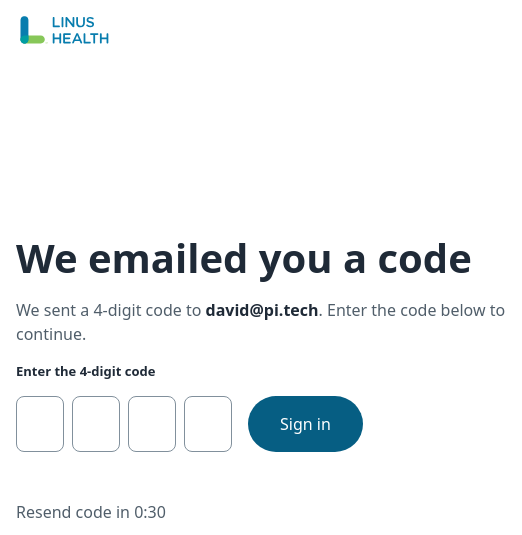
Scenario: VerifyEmailPage › auto-advances focus as each digit is typed
Click the field named "Digit 1 of 4". click: (40, 424)
box: x1=16 y1=396 x2=64 y2=452
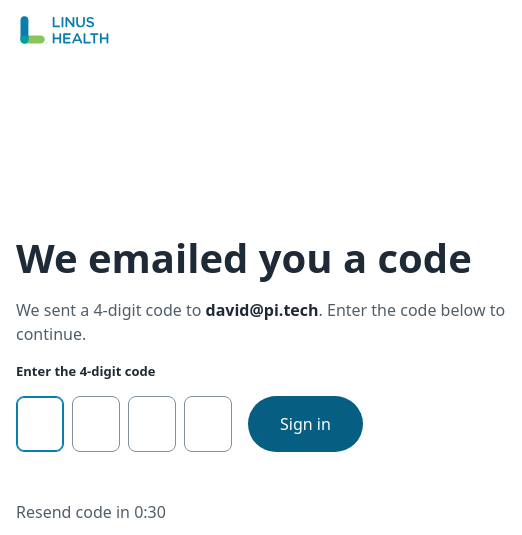
Type keys "1"
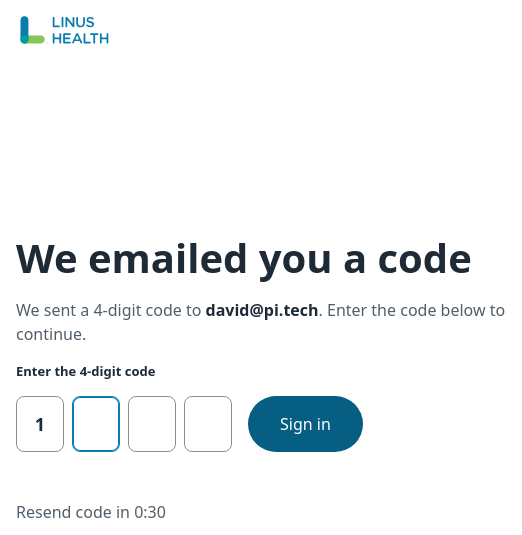
Type keys "2"
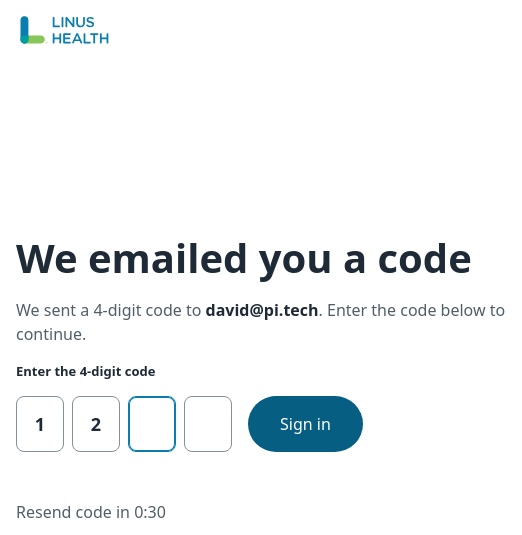
Type keys "3"
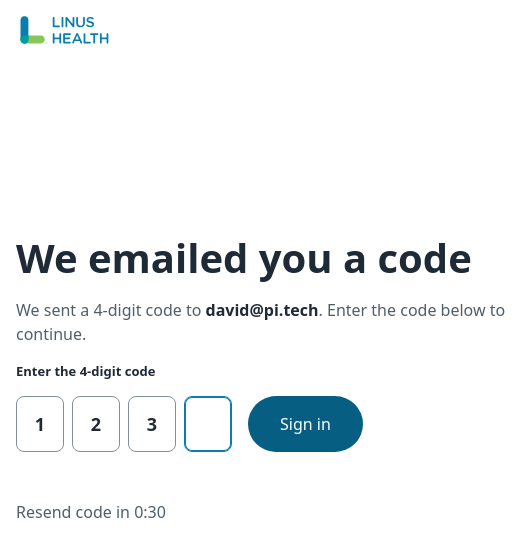
Type keys "4"
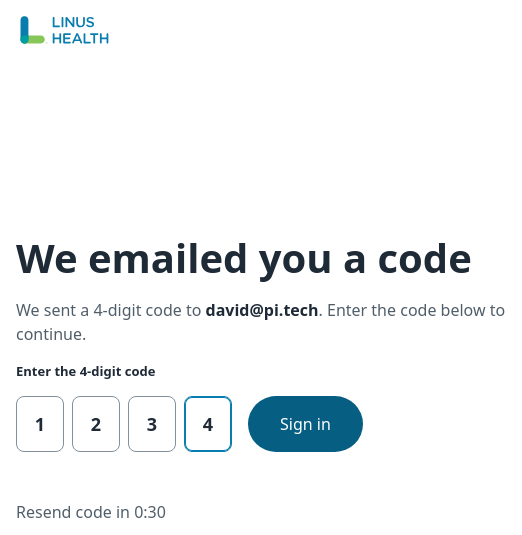
Result: the field named "Digit 4 of 4" holds "4" at x1=184 y1=396 x2=232 y2=452
